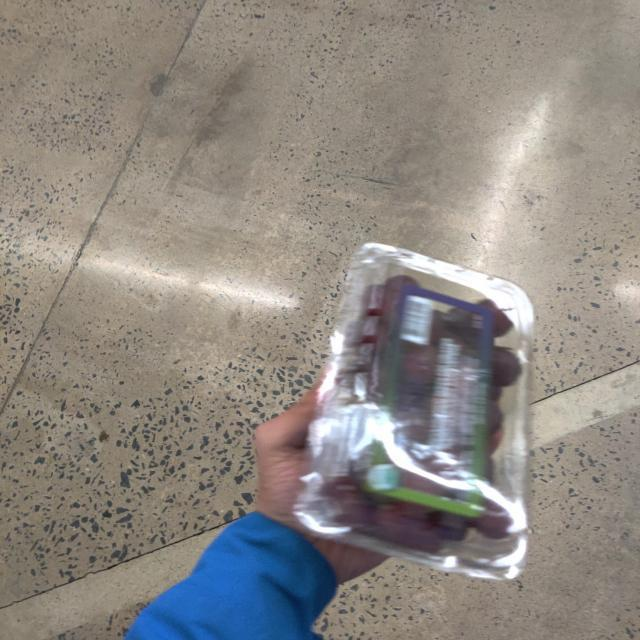Grapes: (304, 245, 534, 583)
